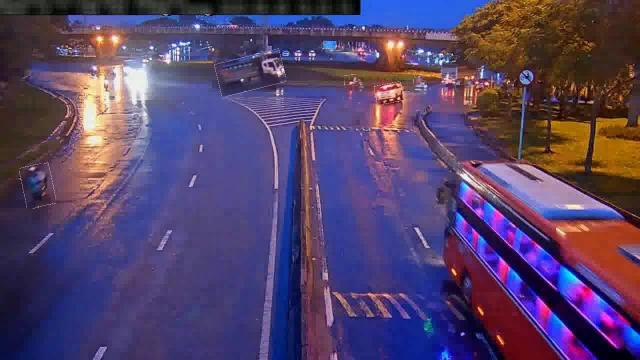Bike: (21, 164, 55, 208), (344, 74, 364, 88), (414, 74, 431, 90)
Car: (375, 84, 403, 105)
Truck: (216, 52, 284, 94)
